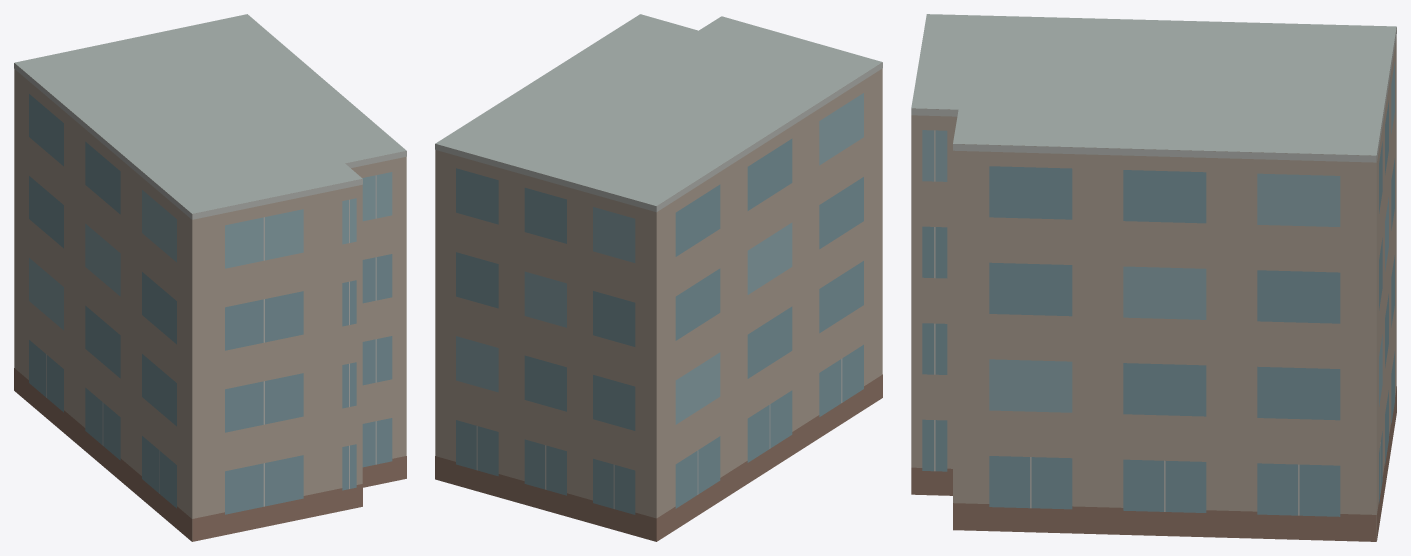
The model's file is survey-upis-32728306.glb.
The picture shows the model from 3 angles, left to right: view 1: azimuth 30°, elevation 25°; view 2: azimuth 150°, elevation 25°; view 3: azimuth 270°, elevation 25°; orthographic projection. The views are drawn at different scales.
Parts seen in each view (by area): view 1: survey-upis-32728306.tmp; view 2: survey-upis-32728306.tmp; view 3: survey-upis-32728306.tmp.
Part boxes in pixels (x1,y1,x2,y2): survey-upis-32728306.tmp: (14,14,406,541); survey-upis-32728306.tmp: (435,14,882,541); survey-upis-32728306.tmp: (911,14,1396,541).
Size of the model in its own units: 10.62 by 13.5 by 15.39.
